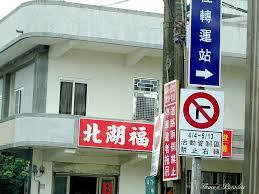no_right_turn: (182, 91, 218, 128)
